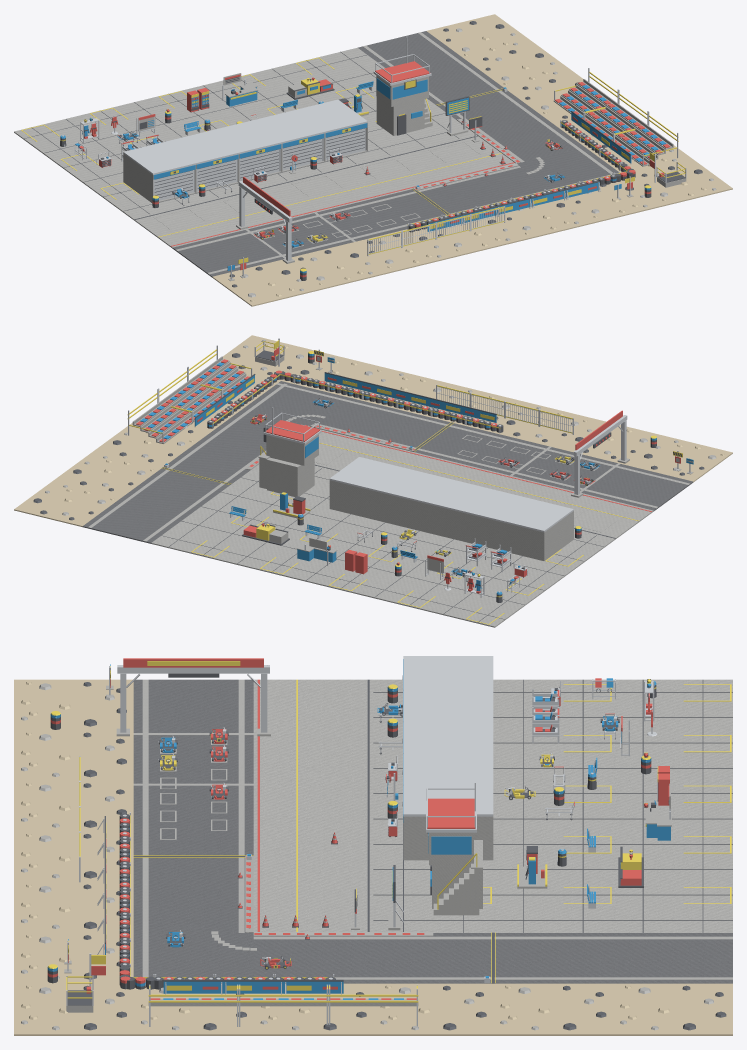
Rendered from go-kart-track-and-pit-lane-club-circuit--5ab1738e-starter-scene__34369.glb.
3 views of the same model, one above another, from view 1: azimuth 30°, elevation 25°; view 2: azimuth 150°, elevation 25°; view 3: azimuth 270°, elevation 25° (orthographic). The views are drawn at different scales.
Visible parts, largest first — view 1: 014-pit-lane-tile/pit-lane-tile-concrete, 016-pit-lane-tile/pit-lane-tile-concrete, 000-run-off-gravel-tile/run-off-gravel-tile-gravel, 017-pit-lane-tile/pit-lane-tile-concrete, 041-run-off-gravel-tile/run-off-gravel-tile-gravel, 034-run-off-gravel-tile/run-off-gravel-tile-gravel, 001-run-off-gravel-tile/run-off-gravel-tile-gravel, 018-pit-lane-tile/pit-lane-tile-concrete, 007-track-surface-tile-straight/track-surface-tile-straight-, 002-run-off-gravel-tile/run-off-gravel-tile-gravel, 035-paddock-apron-tile/paddock-apron-tile-concrete, 039-paddock-apron-tile/paddock-apron-tile-concrete (+48 smaller); view 2: 096-race-control-tower/race-control-tower-concrete, 039-paddock-apron-tile/paddock-apron-tile-concrete, 041-run-off-gravel-tile/run-off-gravel-tile-gravel, 035-paddock-apron-tile/paddock-apron-tile-concrete, 036-paddock-apron-tile/paddock-apron-tile-concrete, 034-run-off-gravel-tile/run-off-gravel-tile-gravel, 007-track-surface-tile-straight/track-surface-tile-straight-, 040-track-surface-tile-straight/track-surface-tile-straight-, 000-run-off-gravel-tile/run-off-gravel-tile-gravel, 033-track-surface-tile-straight/track-surface-tile-straight-, 002-run-off-gravel-tile/run-off-gravel-tile-gravel, 012-track-surface-tile-curve/track-surface-tile-curve-tarmac (+44 smaller); view 3: 040-track-surface-tile-straight/track-surface-tile-straight- (×2), 033-track-surface-tile-straight/track-surface-tile-straight- (×2), 007-track-surface-tile-straight/track-surface-tile-straight- (×2), 026-track-surface-tile-straight/track-surface-tile-straight- (×2), 034-run-off-gravel-tile/run-off-gravel-tile-gravel, 010-track-surface-tile-straight/track-surface-tile-straight- (×2), 041-run-off-gravel-tile/run-off-gravel-tile-gravel, 017-pit-lane-tile/pit-lane-tile-concrete, 016-pit-lane-tile/pit-lane-tile-concrete, 039-paddock-apron-tile/paddock-apron-tile-concrete, 011-track-surface-tile-straight/track-surface-tile-straight- (×2), 015-pit-lane-tile/pit-lane-tile-concrete (+46 smaller).
Boxes of the visible parts, x1=… form: 014-pit-lane-tile/pit-lane-tile-concrete: x1=133, y1=202, x2=240, y2=248; 016-pit-lane-tile/pit-lane-tile-concrete: x1=271, y1=168, x2=378, y2=213; 000-run-off-gravel-tile/run-off-gravel-tile-gravel: x1=212, y1=260, x2=320, y2=306; 017-pit-lane-tile/pit-lane-tile-concrete: x1=339, y1=151, x2=445, y2=197; 041-run-off-gravel-tile/run-off-gravel-tile-gravel: x1=427, y1=14, x2=534, y2=59; 034-run-off-gravel-tile/run-off-gravel-tile-gravel: x1=466, y1=43, x2=573, y2=88; 001-run-off-gravel-tile/run-off-gravel-tile-gravel: x1=281, y1=243, x2=389, y2=289; 018-pit-lane-tile/pit-lane-tile-concrete: x1=408, y1=135, x2=514, y2=179; 007-track-surface-tile-straight/track-surface-tile-straight-: x1=172, y1=231, x2=280, y2=277; 002-run-off-gravel-tile/run-off-gravel-tile-gravel: x1=350, y1=229, x2=457, y2=273; 035-paddock-apron-tile/paddock-apron-tile-concrete: x1=14, y1=115, x2=121, y2=161; 039-paddock-apron-tile/paddock-apron-tile-concrete: x1=289, y1=47, x2=385, y2=93; 096-race-control-tower/race-control-tower-concrete: x1=258, y1=434, x2=318, y2=496; 039-paddock-apron-tile/paddock-apron-tile-concrete: x1=151, y1=514, x2=249, y2=560; 041-run-off-gravel-tile/run-off-gravel-tile-gravel: x1=14, y1=480, x2=121, y2=526; 035-paddock-apron-tile/paddock-apron-tile-concrete: x1=426, y1=581, x2=534, y2=627; 036-paddock-apron-tile/paddock-apron-tile-concrete: x1=357, y1=565, x2=464, y2=610; 034-run-off-gravel-tile/run-off-gravel-tile-gravel: x1=54, y1=451, x2=161, y2=496; 007-track-surface-tile-straight/track-surface-tile-straight-: x1=585, y1=465, x2=693, y2=511; 040-track-surface-tile-straight/track-surface-tile-straight-: x1=82, y1=497, x2=190, y2=543; 000-run-off-gravel-tile/run-off-gravel-tile-gravel: x1=625, y1=436, x2=732, y2=482; 033-track-surface-tile-straight/track-surface-tile-straight-: x1=123, y1=468, x2=229, y2=513; 002-run-off-gravel-tile/run-off-gravel-tile-gravel: x1=487, y1=402, x2=594, y2=447; 012-track-surface-tile-curve/track-surface-tile-curve-tarmac: x1=242, y1=381, x2=349, y2=425; 040-track-surface-tile-straight/track-surface-tile-straight- (×2): x1=613, y1=933, x2=732, y2=983; 033-track-surface-tile-straight/track-surface-tile-straight- (×2): x1=494, y1=933, x2=613, y2=983; 007-track-surface-tile-straight/track-surface-tile-straight- (×2): x1=133, y1=679, x2=253, y2=730; 026-track-surface-tile-straight/track-surface-tile-straight- (×2): x1=373, y1=933, x2=491, y2=983; 034-run-off-gravel-tile/run-off-gravel-tile-gravel: x1=493, y1=983, x2=613, y2=1035; 010-track-surface-tile-straight/track-surface-tile-straight- (×2): x1=133, y1=831, x2=253, y2=882; 041-run-off-gravel-tile/run-off-gravel-tile-gravel: x1=613, y1=983, x2=732, y2=1035; 017-pit-lane-tile/pit-lane-tile-concrete: x1=253, y1=831, x2=373, y2=882; 016-pit-lane-tile/pit-lane-tile-concrete: x1=253, y1=781, x2=373, y2=831; 039-paddock-apron-tile/paddock-apron-tile-concrete: x1=613, y1=882, x2=732, y2=932; 011-track-surface-tile-straight/track-surface-tile-straight- (×2): x1=133, y1=882, x2=246, y2=932; 015-pit-lane-tile/pit-lane-tile-concrete: x1=253, y1=730, x2=373, y2=780.
Bounding box in the file's own units: 56 × 9.24 × 48.
Materials: 8 (2 with a texture image).
